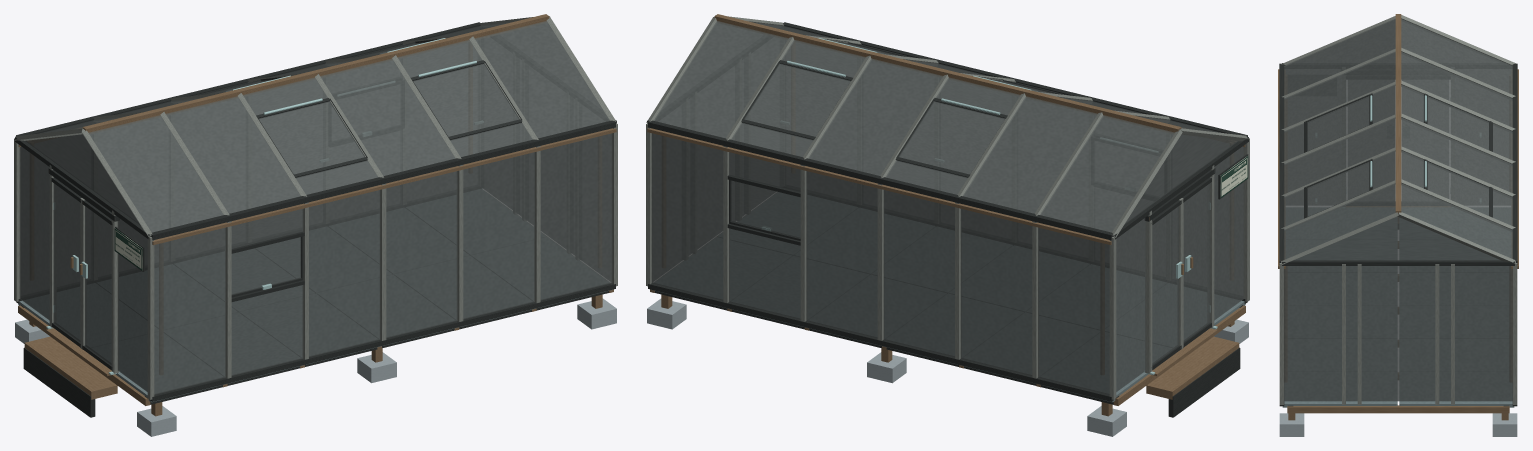
Rendered from ProjectZ_Raised_Greenhouse_Frame.glb.
3 views of the same model, side by side, from view 1: azimuth 30°, elevation 25°; view 2: azimuth 150°, elevation 25°; view 3: azimuth 270°, elevation 25° (orthographic). The views are drawn at different scales.
Visible parts, largest first — view 1: Left_Glazing_Bay05_Part0, Left_Glazing_Bay00_Part0, Left_Glazing_Bay02_Part0, Left_Glazing_Bay04_Part0, Left_Glazing_Bay03_Part0, Roof_Translucent_Left_Bay00_Strip0, Roof_Translucent_Left_Bay01_Strip0, Roof_Translucent_Left_Bay03_Strip0, Roof_Translucent_Left_Bay05_Strip0, Left_Glazing_Bay01_Part0, Front_Side_Polycarbonate_Right, RoofVent_Left_2_Moveable_Polycarbonate (+57 smaller); view 2: Right_Glazing_Bay01_Part0, Right_Glazing_Bay05_Part0, Right_Glazing_Bay00_Part0, Right_Glazing_Bay02_Part0, Right_Glazing_Bay03_Part0, Roof_Translucent_Right_Bay01_Strip0, Roof_Translucent_Right_Bay03_Strip0, Roof_Translucent_Right_Bay00_Strip0, Roof_Translucent_Right_Bay05_Strip0, Right_Glazing_Bay04_Part0, Front_Side_Polycarbonate_Right, RoofVent_Right_2_Moveable_Polycarbonate (+57 smaller); view 3: Rear_Glazing_Bay01, Rear_Glazing_Bay00, Rear_Glazing_Bay02, Rear_Triangular_Gable_Polycarbonate, Walkable_Plywood_Composite_Floor_X5_Lane0, Walkable_Plywood_Composite_Floor_X5_Lane1, Roof_Translucent_Left_Bay01_Strip0, Roof_Translucent_Left_Bay05_Strip0, Roof_Translucent_Left_Bay00_Strip0, Roof_Translucent_Left_Bay03_Strip0, Roof_Translucent_Right_Bay05_Strip0, Roof_Translucent_Right_Bay00_Strip0 (+59 smaller).
Boxes of the visible parts, left/top/right/bottom form: Left_Glazing_Bay05_Part0: left=540, top=133, right=612, bottom=300; Left_Glazing_Bay00_Part0: left=154, top=227, right=225, bottom=394; Left_Glazing_Bay02_Part0: left=309, top=190, right=380, bottom=356; Left_Glazing_Bay04_Part0: left=463, top=152, right=534, bottom=319; Left_Glazing_Bay03_Part0: left=386, top=171, right=457, bottom=337; Roof_Translucent_Left_Bay00_Strip0: left=89, top=115, right=223, bottom=232; Roof_Translucent_Left_Bay01_Strip0: left=166, top=96, right=300, bottom=213; Roof_Translucent_Left_Bay03_Strip0: left=320, top=58, right=455, bottom=175; Roof_Translucent_Left_Bay05_Strip0: left=475, top=21, right=609, bottom=138; Left_Glazing_Bay01_Part0: left=231, top=285, right=303, bottom=375; Front_Side_Polycarbonate_Right: left=19, top=146, right=49, bottom=320; RoofVent_Left_2_Moveable_Polycarbonate: left=258, top=101, right=364, bottom=174; Right_Glazing_Bay01_Part0: left=960, top=209, right=1032, bottom=375; Right_Glazing_Bay05_Part0: left=651, top=133, right=723, bottom=300; Right_Glazing_Bay00_Part0: left=1038, top=227, right=1109, bottom=394; Right_Glazing_Bay02_Part0: left=883, top=190, right=954, bottom=356; Right_Glazing_Bay03_Part0: left=806, top=171, right=877, bottom=337; Roof_Translucent_Right_Bay01_Strip0: left=963, top=96, right=1097, bottom=213; Roof_Translucent_Right_Bay03_Strip0: left=808, top=58, right=942, bottom=175; Roof_Translucent_Right_Bay00_Strip0: left=1040, top=115, right=1174, bottom=232; Roof_Translucent_Right_Bay05_Strip0: left=654, top=21, right=788, bottom=138; Right_Glazing_Bay04_Part0: left=729, top=228, right=800, bottom=319; Front_Side_Polycarbonate_Right: left=1116, top=218, right=1146, bottom=391; RoofVent_Right_2_Moveable_Polycarbonate: left=899, top=101, right=1005, bottom=174; Rear_Glazing_Bay01: left=1361, top=266, right=1435, bottom=401; Rear_Glazing_Bay00: left=1284, top=266, right=1357, bottom=401; Rear_Glazing_Bay02: left=1439, top=266, right=1512, bottom=401; Rear_Triangular_Gable_Polycarbonate: left=1294, top=216, right=1500, bottom=260; Walkable_Plywood_Composite_Floor_X5_Lane0: left=1282, top=372, right=1397, bottom=407; Walkable_Plywood_Composite_Floor_X5_Lane1: left=1399, top=372, right=1514, bottom=407; Roof_Translucent_Left_Bay01_Strip0: left=1284, top=51, right=1395, bottom=128; Roof_Translucent_Left_Bay05_Strip0: left=1284, top=183, right=1395, bottom=259; Roof_Translucent_Left_Bay00_Strip0: left=1284, top=19, right=1395, bottom=95; Roof_Translucent_Left_Bay03_Strip0: left=1284, top=117, right=1395, bottom=193; Roof_Translucent_Right_Bay05_Strip0: left=1401, top=183, right=1512, bottom=258; Roof_Translucent_Right_Bay00_Strip0: left=1401, top=19, right=1512, bottom=94.
Bounding box in the file's own units: 6.39 × 3.2 × 3.1.
Materials: 3 (3 with a texture image).
